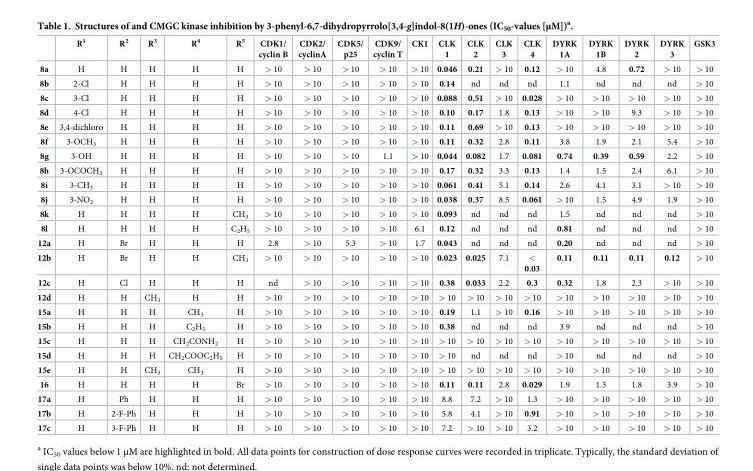table: (36, 37, 714, 432)
table column: (163, 37, 225, 432), (54, 37, 106, 432), (253, 37, 292, 432), (292, 37, 331, 432), (367, 37, 406, 432), (331, 37, 367, 432), (581, 37, 617, 432), (617, 37, 653, 432), (546, 37, 581, 432), (653, 37, 688, 432), (106, 37, 139, 432), (516, 37, 546, 432), (431, 37, 460, 432), (460, 37, 489, 432), (225, 37, 253, 432), (489, 37, 516, 432), (688, 37, 714, 432), (406, 37, 431, 432), (139, 37, 163, 432), (36, 37, 54, 432)
table column header: (36, 37, 714, 61)
table row: (36, 250, 714, 275), (36, 37, 714, 61), (36, 75, 714, 90), (36, 104, 714, 119), (36, 133, 714, 148), (36, 148, 714, 163), (36, 177, 714, 192), (36, 206, 714, 221), (36, 221, 714, 236), (36, 289, 714, 304), (36, 304, 714, 319), (36, 333, 714, 348), (36, 362, 714, 377), (36, 391, 714, 406), (36, 61, 714, 75), (36, 90, 714, 104), (36, 119, 714, 133), (36, 163, 714, 177), (36, 192, 714, 206), (36, 236, 714, 250), (36, 275, 714, 289), (36, 319, 714, 333), (36, 348, 714, 362), (36, 377, 714, 391), (36, 406, 714, 420), (36, 420, 714, 432)
